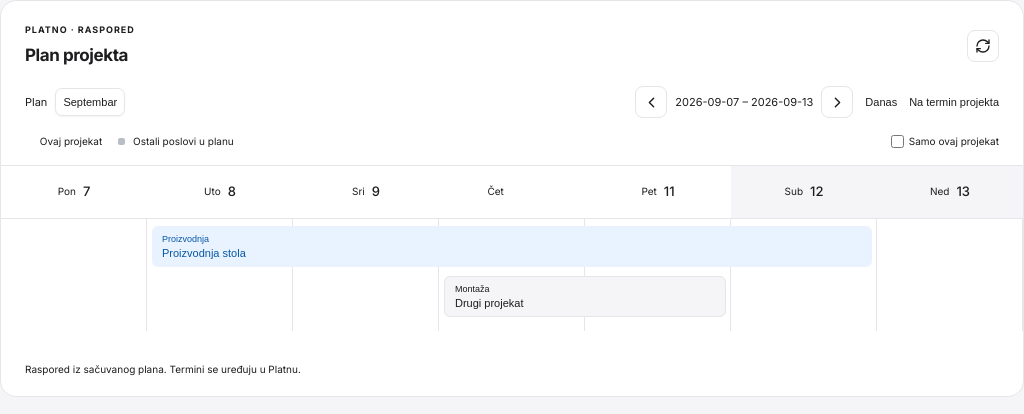
Test case: calendar highlights related work, allows context filtering and switches to project dates
Step 1. Click the checkbox labelled "Samo ovaj projekat" → x=897, y=142, box [891, 135, 904, 148]
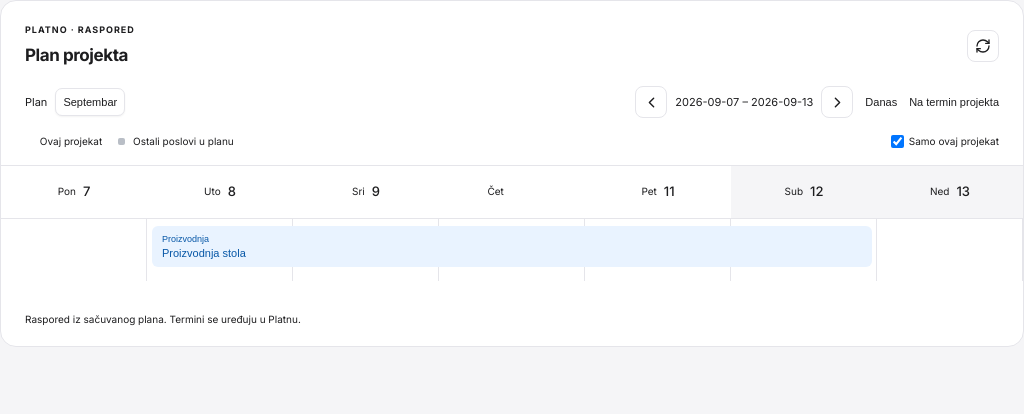
Result: the button "Drugi projekat" is gone
Step 2. Select "Oktobar" in the dropdown named "Odaberi plan" → x=90, y=102, box [55, 88, 125, 116]
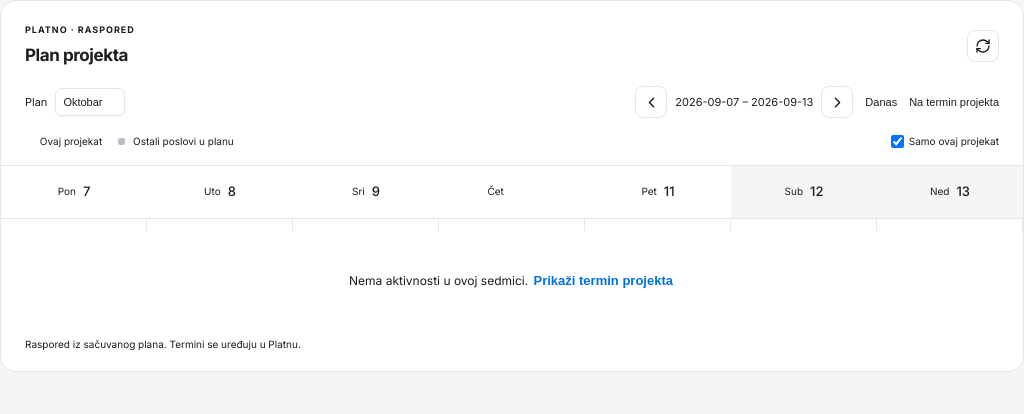
Step 3. Click the button "Na termin projekta" → x=954, y=102, box [909, 92, 999, 112]
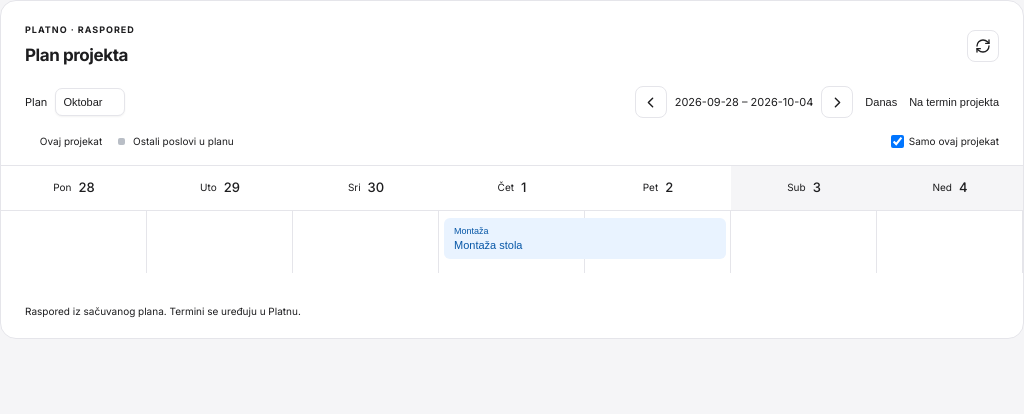
Result: the button "Montaža Montaža stola" is shown at [444, 218, 726, 258]
Step 4. Click the button named "Prethodna sedmica" → x=651, y=102, box [635, 86, 667, 118]
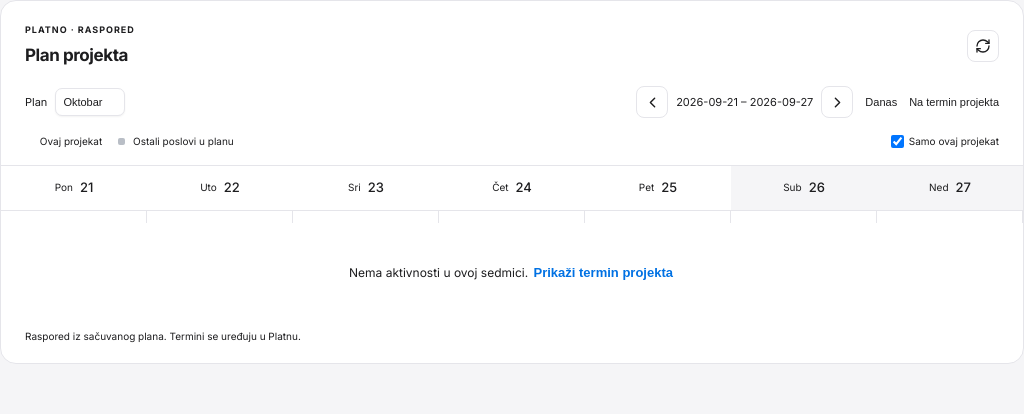
Result: the button "Montaža stola" is gone
